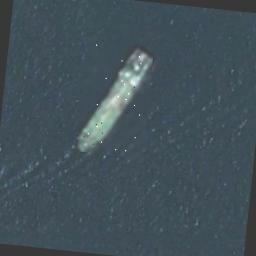boat: (76, 40, 154, 158)
